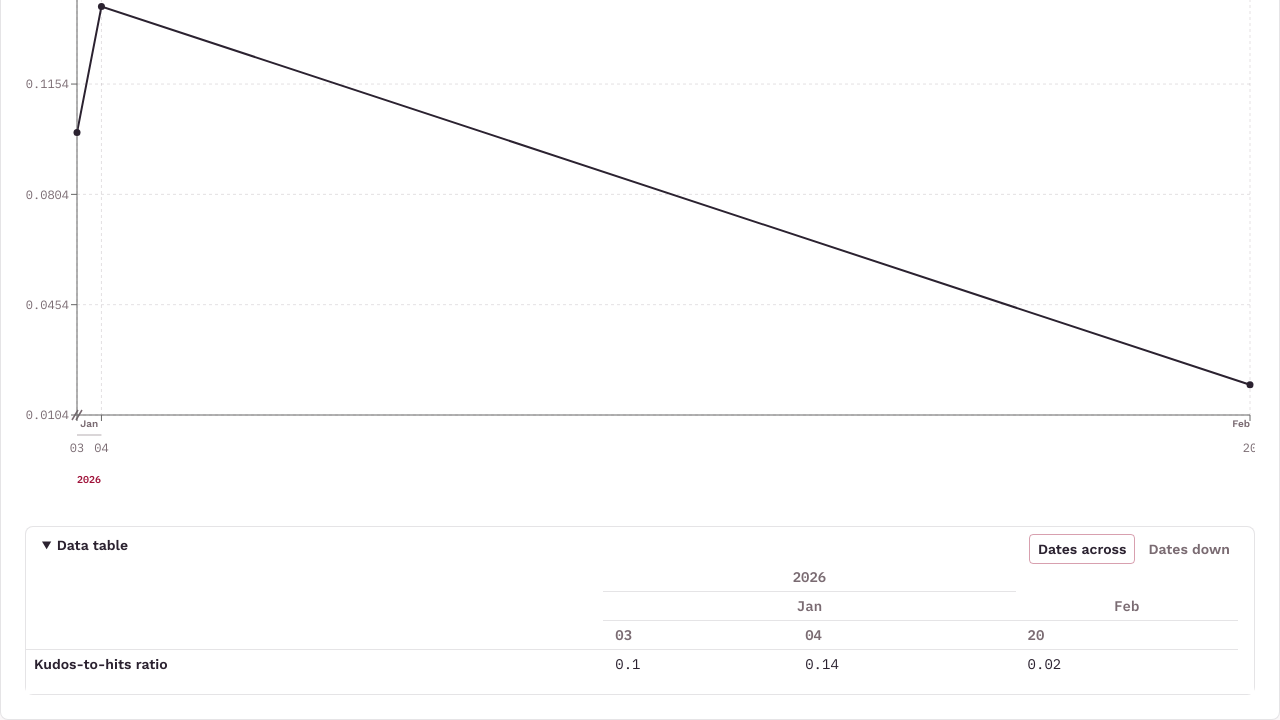
Test case: RatioChart: D6 uniform delta coloring, including the ratio itself › shows a fractional +delta for a ratio increase, formatted the same way any other metric's delta is (no metric-aware neutral special-case)
(page scrolled)
Click the button "03" at (624, 635), box [615, 625, 632, 645]
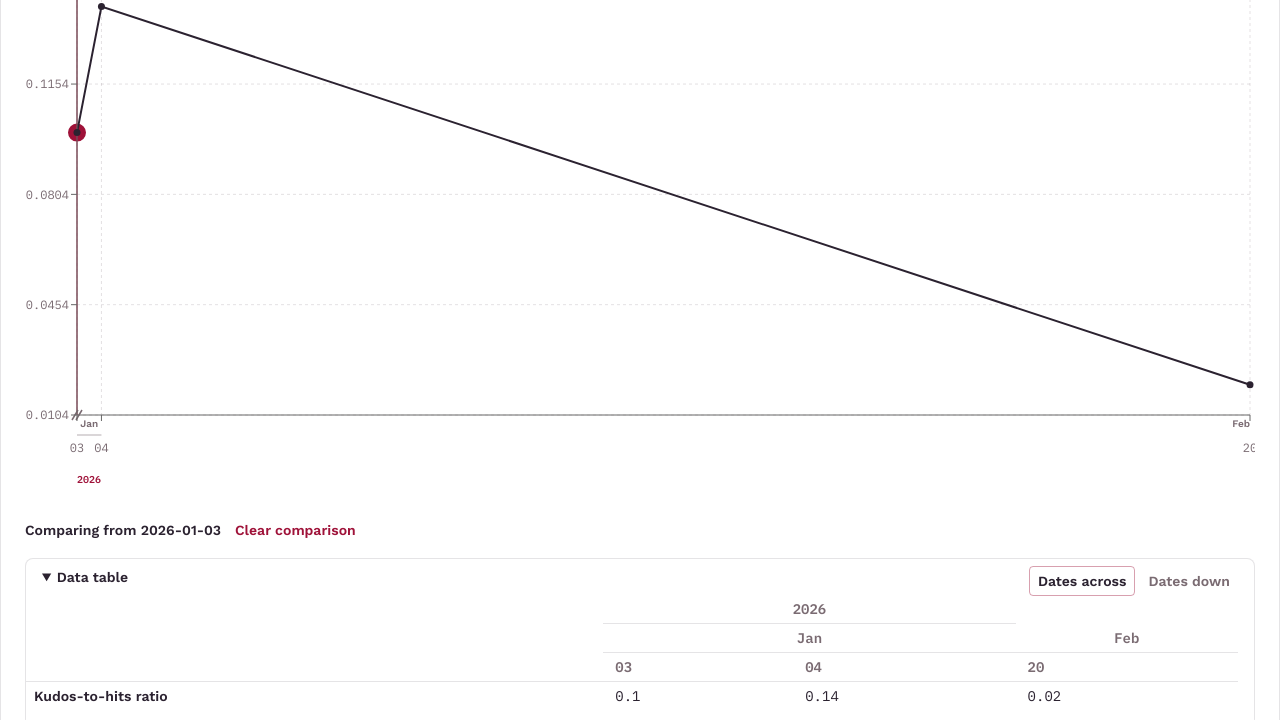
Hover over the column heading named "2026-01-04" at (904, 667), box [793, 652, 1016, 682]
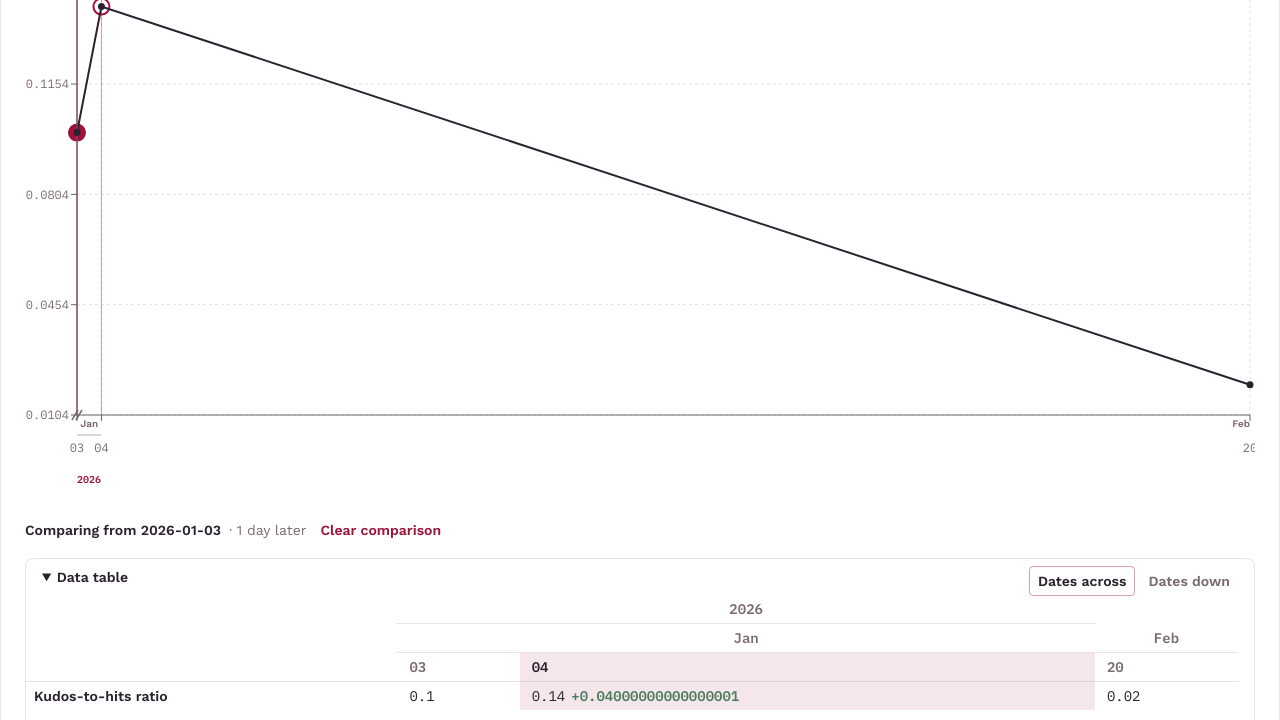
Result: the text with test id "delta-chip" reads "+0.04000000000000001" at [571, 687, 739, 705]
